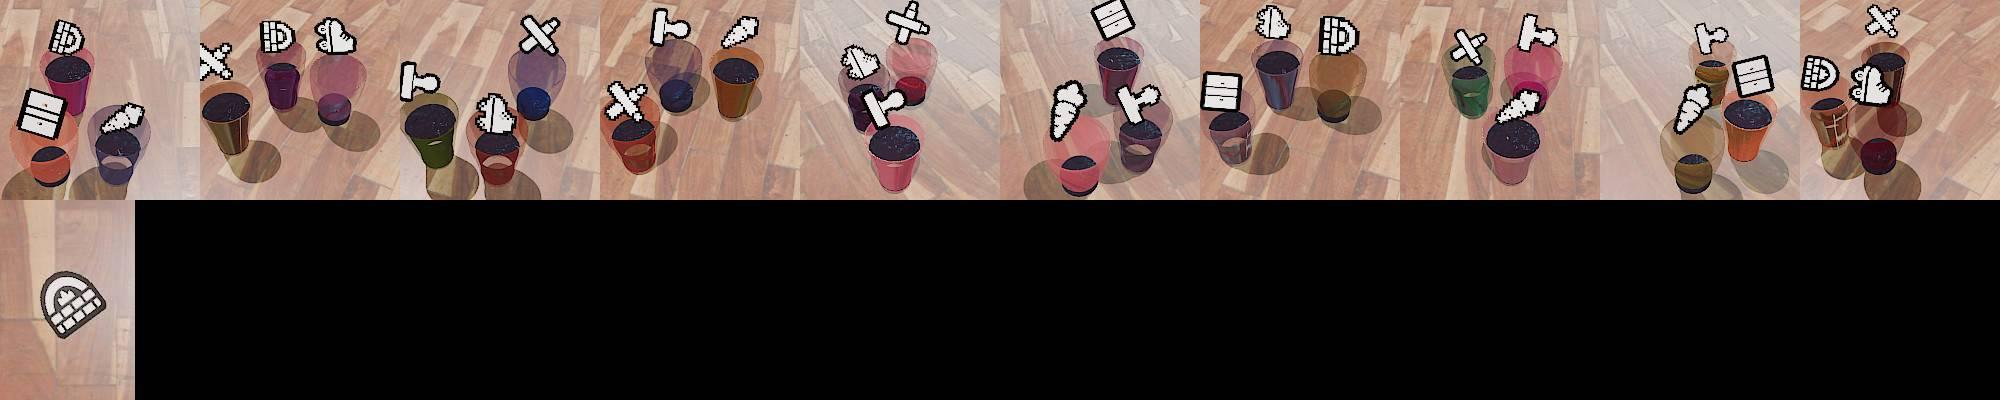icon: (37, 269, 107, 339), (15, 87, 66, 140), (1047, 78, 1087, 140), (1114, 82, 1161, 127), (1491, 87, 1545, 126), (1672, 83, 1712, 135), (885, 0, 931, 45), (862, 88, 907, 132), (1731, 54, 1774, 99), (603, 80, 649, 124), (1849, 62, 1893, 107), (518, 14, 562, 57), (1089, 0, 1135, 42), (474, 92, 518, 135), (1318, 14, 1360, 59), (1515, 13, 1559, 55), (1202, 71, 1242, 115), (399, 60, 441, 101), (651, 5, 691, 47), (314, 17, 357, 56), (98, 101, 147, 134), (841, 43, 881, 82), (719, 14, 761, 50), (1450, 28, 1487, 68), (1800, 55, 1839, 92), (48, 19, 85, 57), (1255, 4, 1292, 42), (199, 42, 235, 82), (259, 18, 295, 55), (1865, 4, 1903, 38), (1694, 22, 1730, 57)
